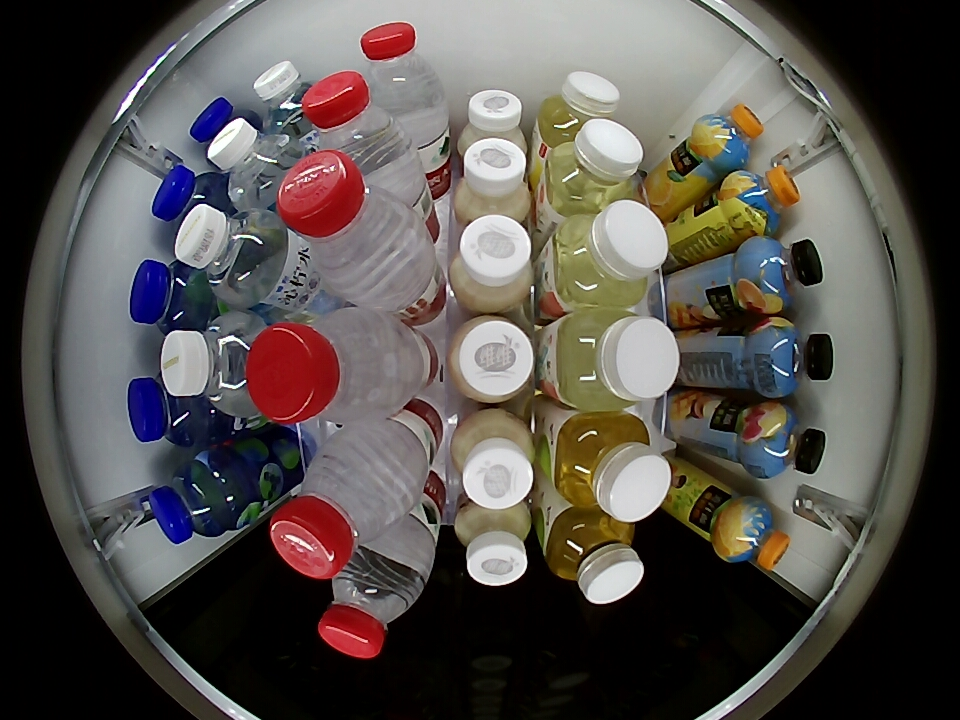chapai: (551, 411, 671, 522)
chapai2: (547, 199, 668, 310), (549, 311, 680, 410), (541, 119, 644, 214), (543, 508, 644, 604), (537, 71, 620, 147)
guolicheng: (717, 497, 791, 571), (723, 166, 800, 237), (694, 104, 765, 172)
guolicheng2: (749, 317, 835, 398), (741, 236, 824, 313), (742, 403, 826, 479)
maidong: (147, 454, 243, 544), (129, 374, 215, 447), (130, 259, 212, 333), (152, 165, 228, 233), (189, 97, 253, 159)
nongfushanquan: (277, 150, 424, 300), (270, 432, 416, 579), (247, 309, 405, 425), (318, 544, 426, 659), (302, 72, 411, 174), (358, 22, 441, 113)
qinningshui: (159, 312, 268, 423), (174, 203, 290, 306), (208, 119, 300, 210), (253, 60, 318, 135)
weiweidounai: (450, 410, 536, 510), (449, 214, 534, 313), (449, 315, 536, 405), (455, 499, 534, 587), (454, 138, 532, 226), (457, 89, 526, 156)
